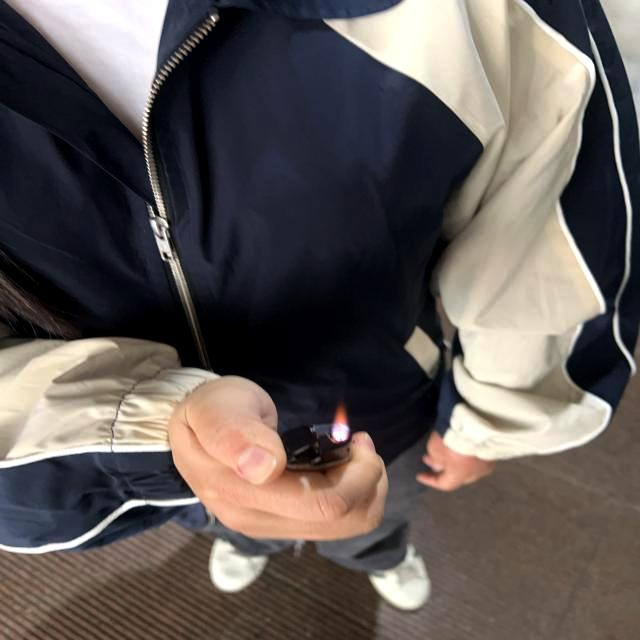fire: (330, 404, 350, 428)
